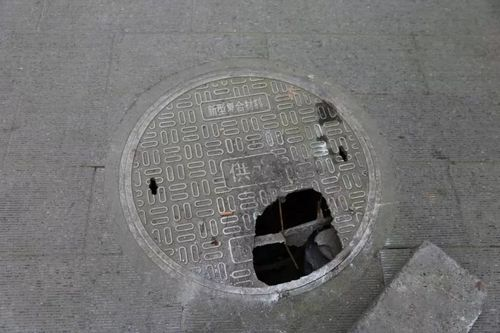broke: (107, 55, 390, 299)
